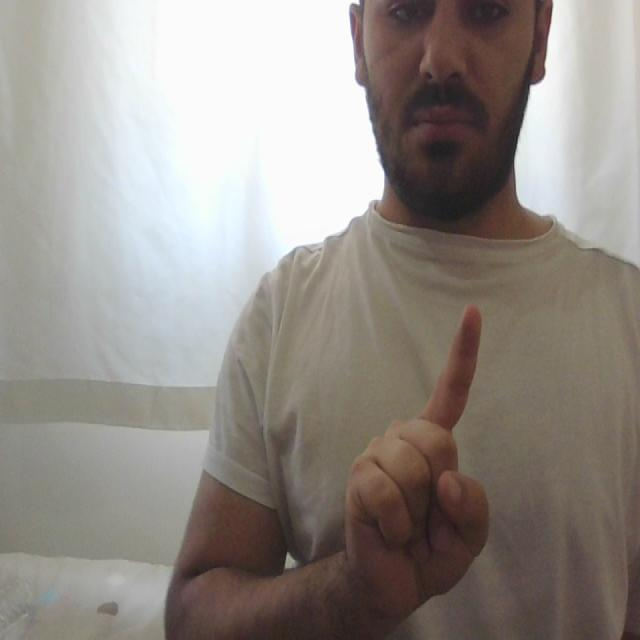Hayir: (342, 287, 512, 639)
